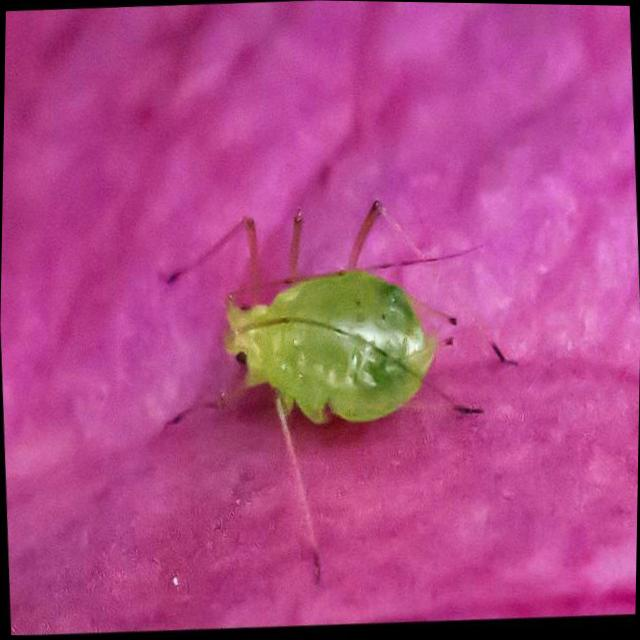aphid: (148, 173, 525, 562)
